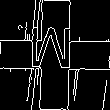M_S: (32, 30, 78, 80)
